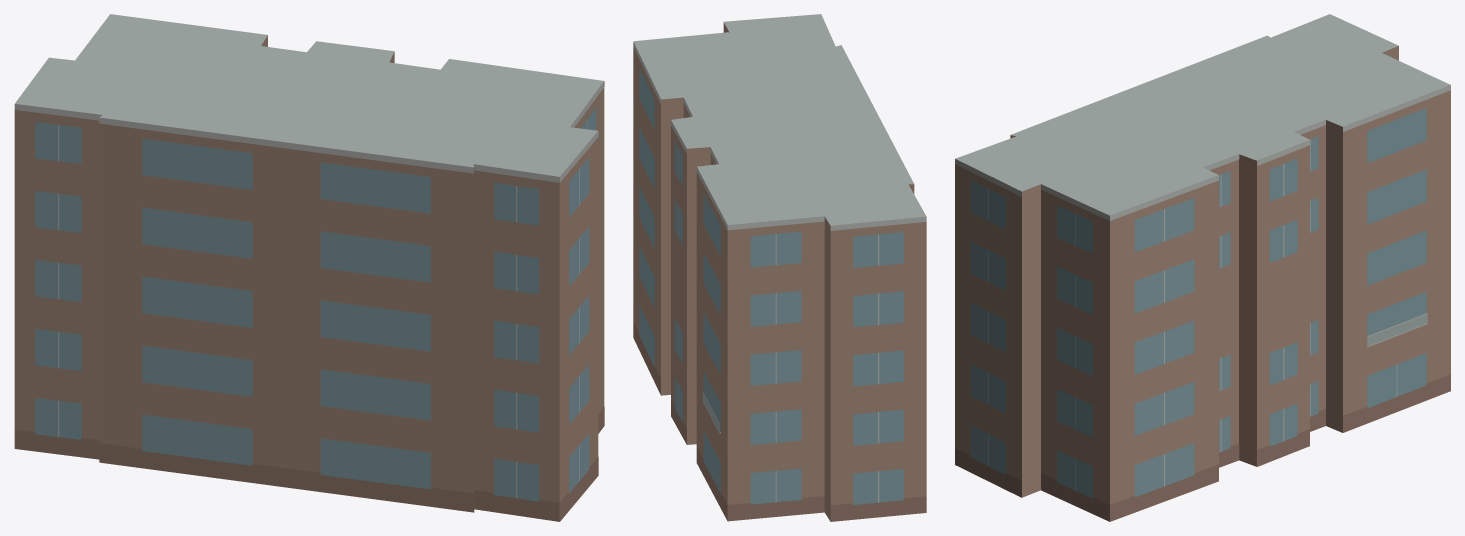
The model's file is survey-upis-32682944.glb.
3 views of the same model, side by side, from view 1: azimuth 30°, elevation 25°; view 2: azimuth 150°, elevation 25°; view 3: azimuth 270°, elevation 25° (orthographic). The views are drawn at different scales.
Visible parts, largest first — view 1: survey-upis-32682944.tmp; view 2: survey-upis-32682944.tmp; view 3: survey-upis-32682944.tmp.
Boxes of the visible parts, x1,y1,x2,y2 form: survey-upis-32682944.tmp: (14, 14, 604, 521); survey-upis-32682944.tmp: (633, 14, 926, 521); survey-upis-32682944.tmp: (955, 14, 1450, 521).
Bounding box in the file's own units: 19.65 × 13.9 × 20.41.
